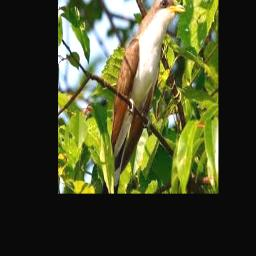Cuckoo: (106, 0, 185, 194)
